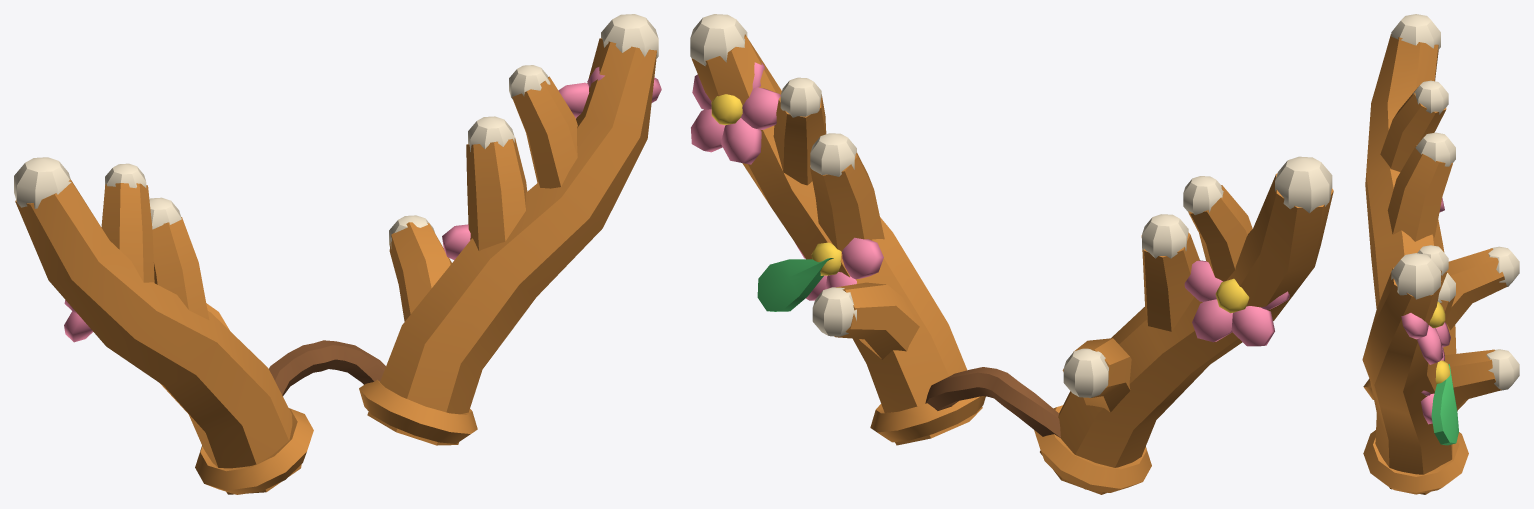
Rendered from bois_cerf.fbx.
3 views of the same model, side by side, from view 1: azimuth 30°, elevation 25°; view 2: azimuth 150°, elevation 25°; view 3: azimuth 270°, elevation 25° (orthographic). The views are drawn at different scales.
Parts seen in each view (by area): view 1: Bois, Anim_Fleur_2, Anim_Fleur_1; view 2: Bois, Anim_Fleur_2, Anim_Fleur_3, Anim_Fleur_1; view 3: Bois, Anim_Fleur_2, Anim_Fleur_1.
Part boxes in pixels (x1,y1,x2,y2): Bois: [14, 14, 658, 494]; Anim_Fleur_2: [558, 67, 661, 118]; Anim_Fleur_1: [442, 224, 470, 260]; Bois: [690, 14, 1333, 494]; Anim_Fleur_2: [691, 62, 780, 164]; Anim_Fleur_3: [1184, 260, 1289, 346]; Anim_Fleur_1: [795, 237, 883, 300]; Bois: [1362, 14, 1519, 494]; Anim_Fleur_2: [1401, 302, 1450, 364]; Anim_Fleur_1: [1421, 347, 1451, 424].
Size of the model in its own units: 1.11 by 0.6214 by 0.2826.
